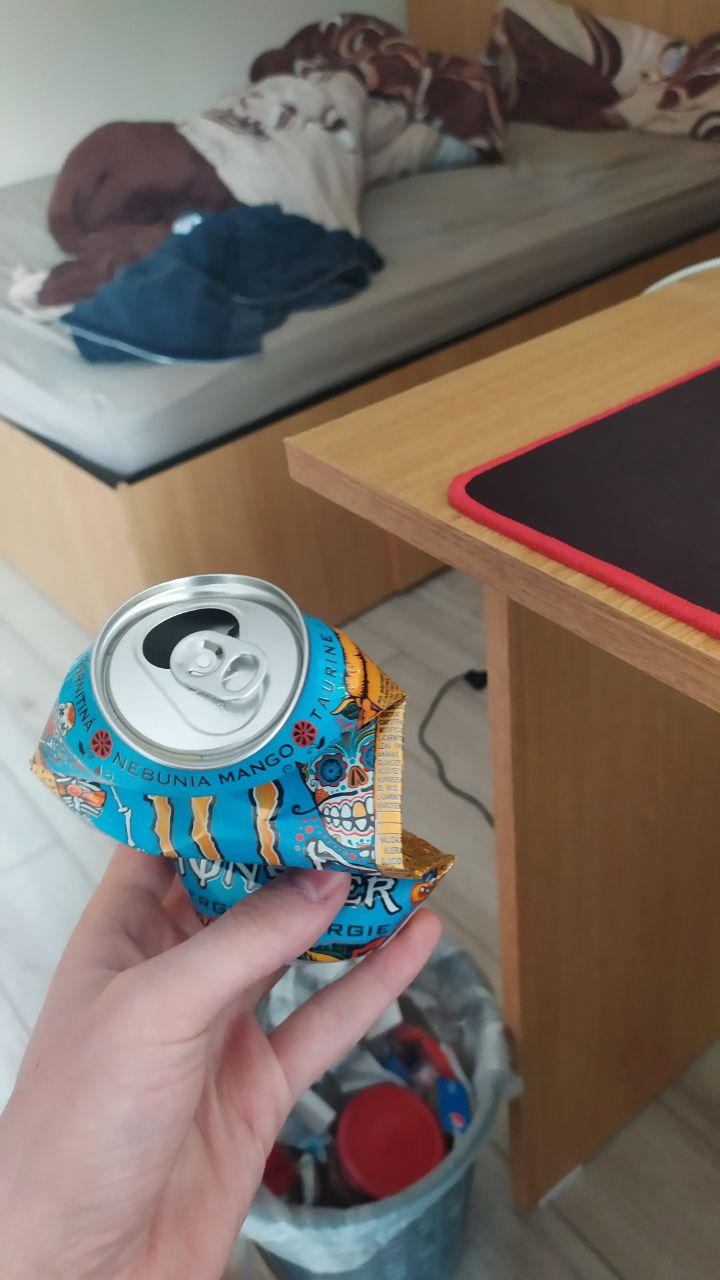Can: (29, 573, 456, 971)
